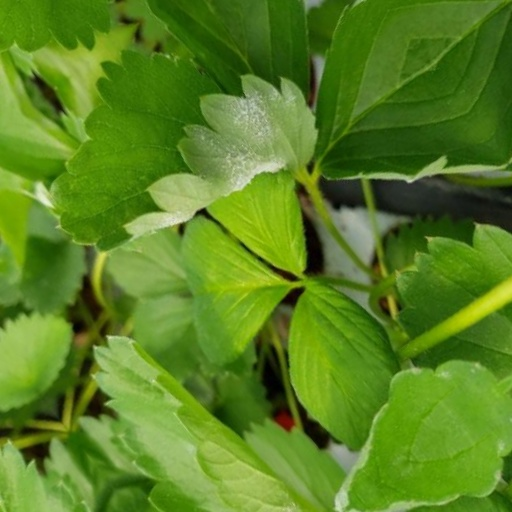Powdery Mildew Leaf: (118, 291, 394, 508), (17, 0, 155, 287), (160, 0, 376, 78)
